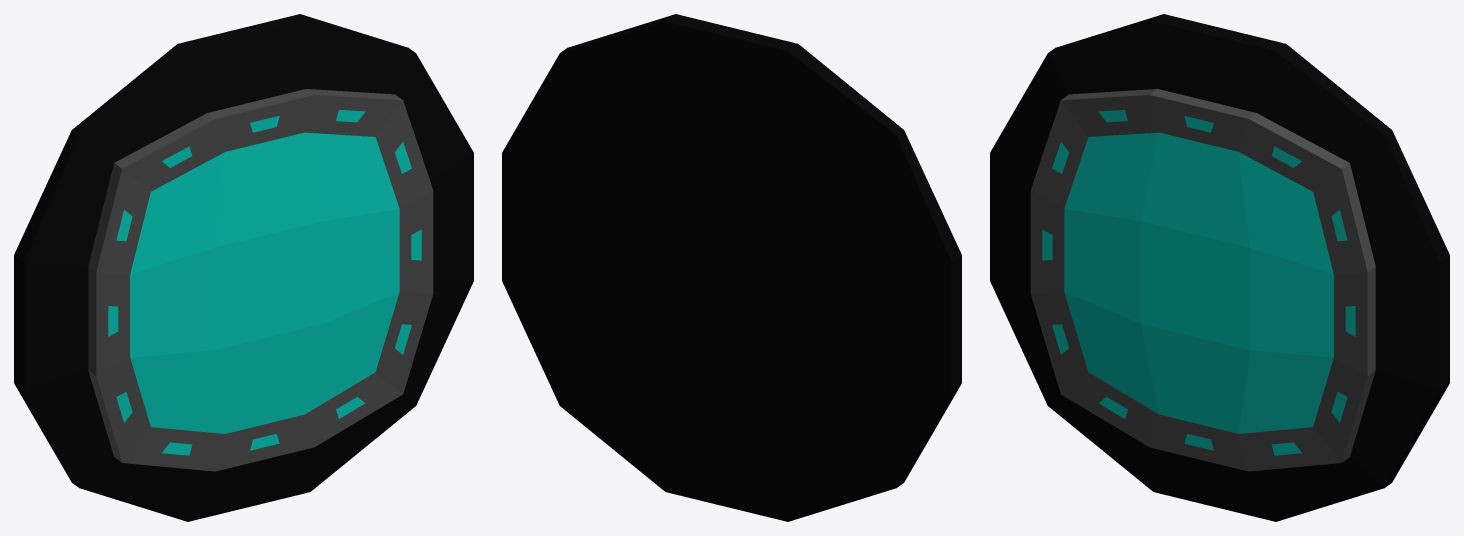
Rendered from Wall dec3.fbx.
The picture shows the model from 3 angles, left to right: view 1: azimuth 30°, elevation 25°; view 2: azimuth 150°, elevation 25°; view 3: azimuth 330°, elevation 25°; orthographic projection.
Visible parts, largest first — view 1: Cube.001; view 2: Cube.001; view 3: Cube.001.
Part boxes in pixels (x1,y1,x2,y2): Cube.001: (14,14,473,521); Cube.001: (502,14,961,521); Cube.001: (990,14,1449,521).
Bounding box in the file's own units: 320 × 320 × 36.33.
